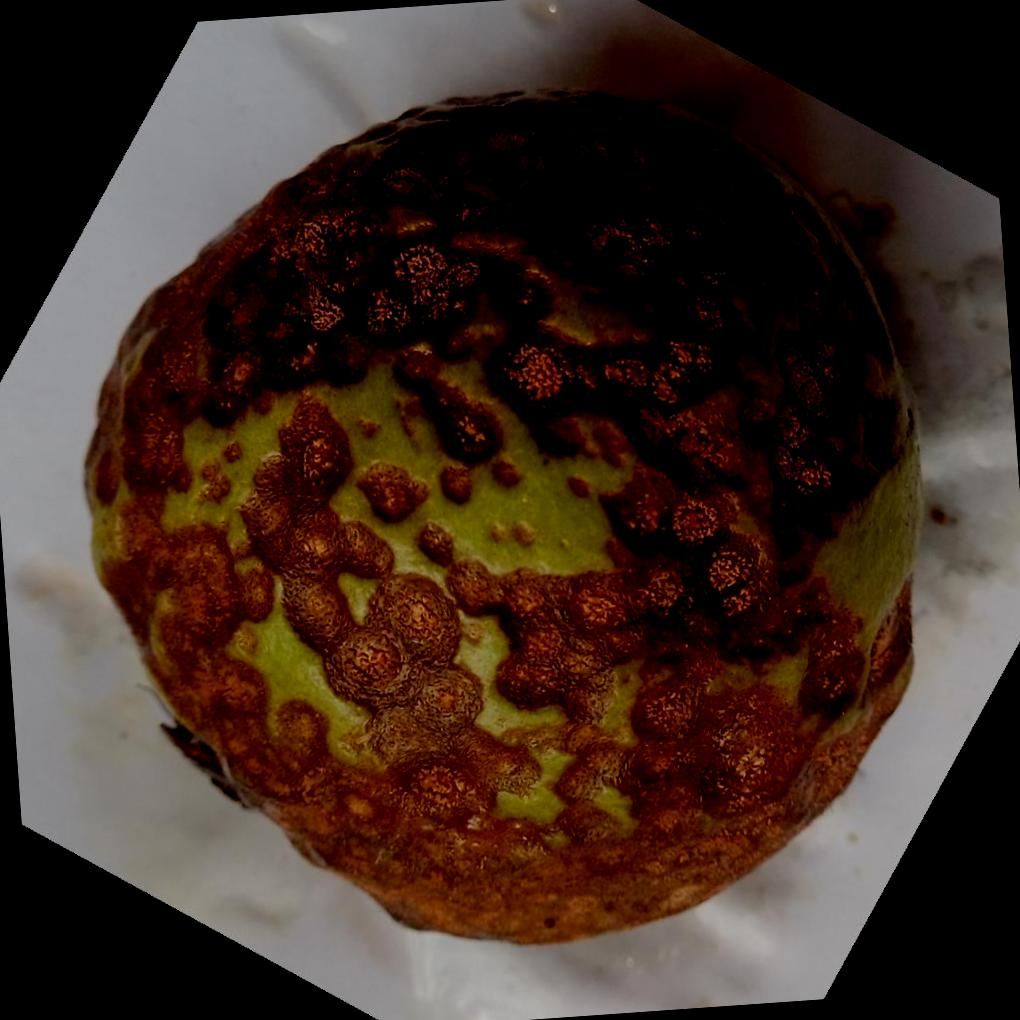FreshOrange: (80, 85, 924, 945)
